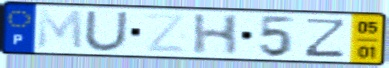5: (257, 14, 297, 59)
H: (190, 13, 242, 57)
M: (35, 8, 86, 52)
U: (82, 10, 131, 53)
Z: (302, 17, 350, 59), (143, 12, 188, 55)
